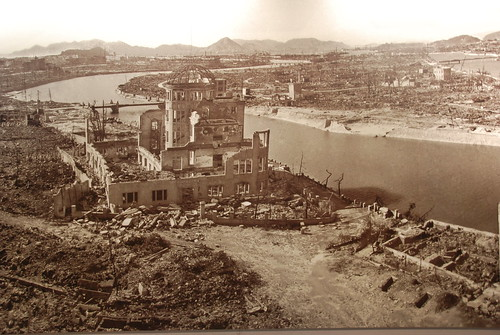building: (70, 65, 276, 195)
debris: (364, 212, 500, 314), (70, 187, 306, 233)
river: (40, 73, 500, 222)
sky: (15, 1, 500, 33)
